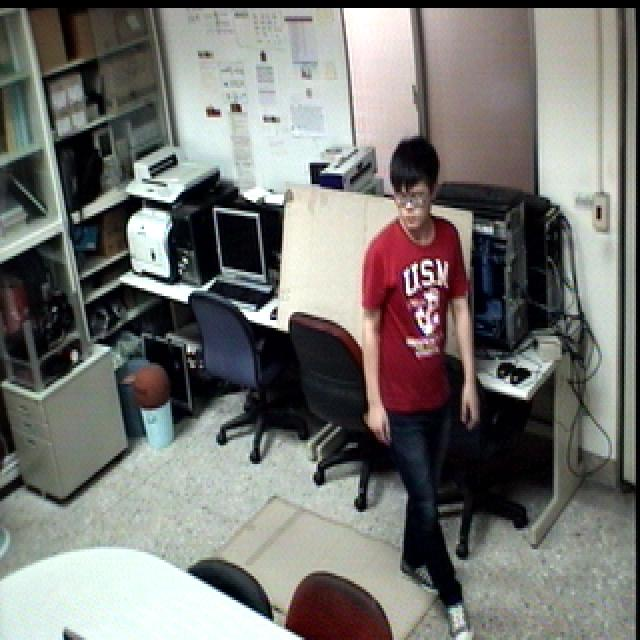stand: (356, 131, 501, 640)
